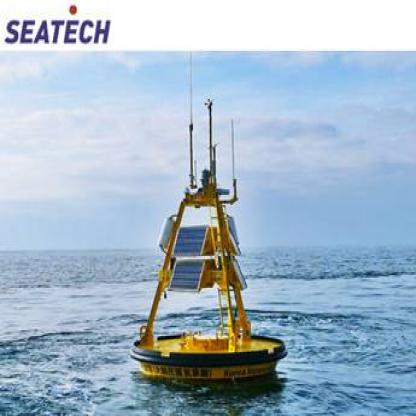buoy: (123, 55, 294, 403)
